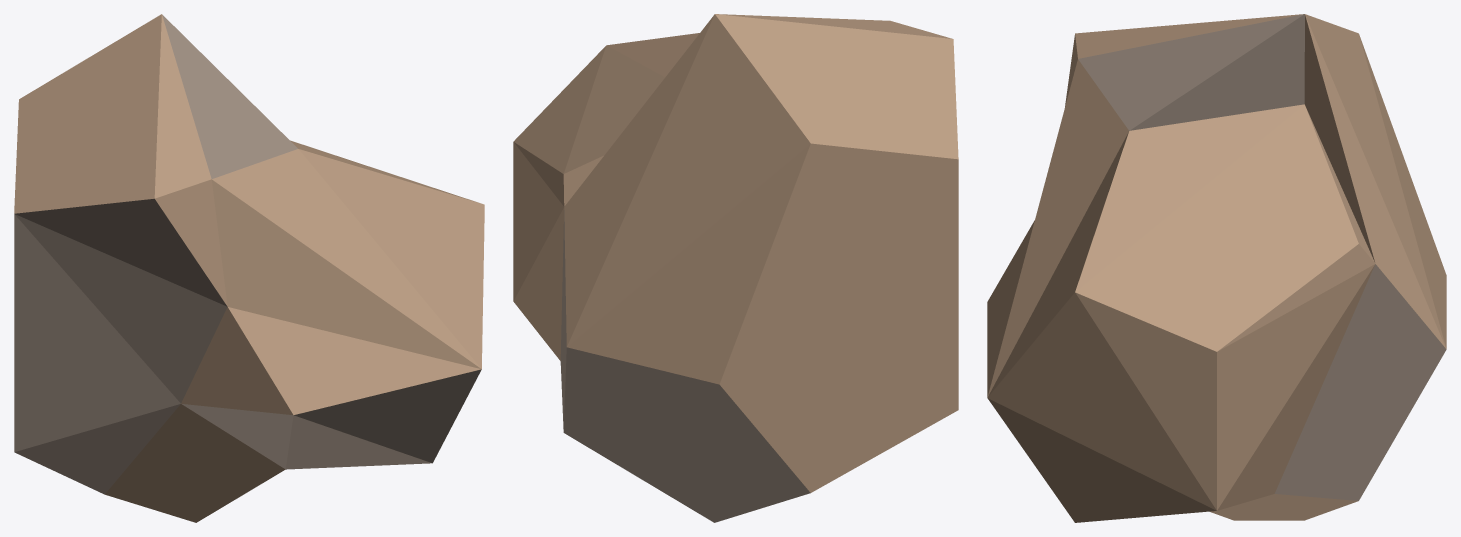
The model's file is Asteroid_2.fbx.
The picture shows the model from 3 angles, left to right: view 1: azimuth 30°, elevation 25°; view 2: azimuth 150°, elevation 25°; view 3: azimuth 270°, elevation 25°; orthographic projection. The views are drawn at different scales.
Visible parts, largest first — view 1: Asteroid_2; view 2: Asteroid_2; view 3: Asteroid_2.
Boxes of the visible parts, x1,y1,x2,y2 form: Asteroid_2: [14, 14, 484, 522]; Asteroid_2: [513, 14, 958, 522]; Asteroid_2: [987, 14, 1446, 522].
Bounding box in the file's own units: 2.32 × 2.53 × 2.08.
